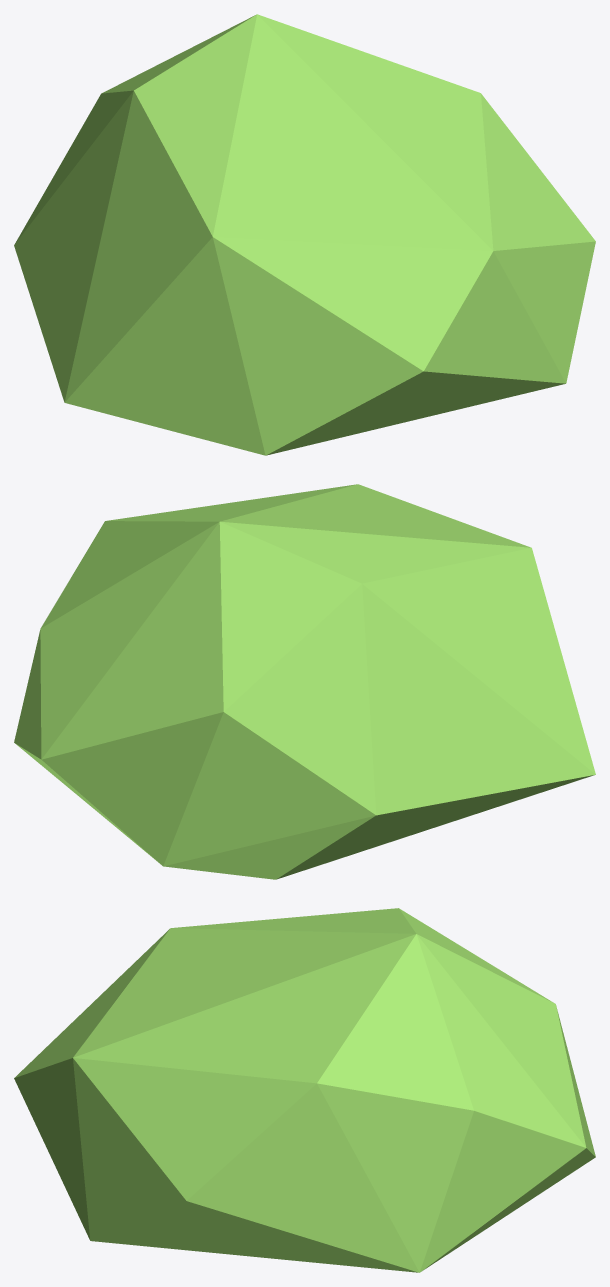
File: bush_4.fbx
The picture shows the model from 3 angles, top to bottom: view 1: azimuth 30°, elevation 25°; view 2: azimuth 150°, elevation 25°; view 3: azimuth 270°, elevation 25°; orthographic projection. The views are drawn at different scales.
Parts seen in each view (by area): view 1: Icosphere.005; view 2: Icosphere.005; view 3: Icosphere.005.
Boxes of the visible parts, x1,y1,x2,y2 form: Icosphere.005: [14, 14, 595, 455]; Icosphere.005: [14, 484, 595, 879]; Icosphere.005: [14, 908, 595, 1272].
Size of the model in its own units: 185 by 98.83 by 205.
